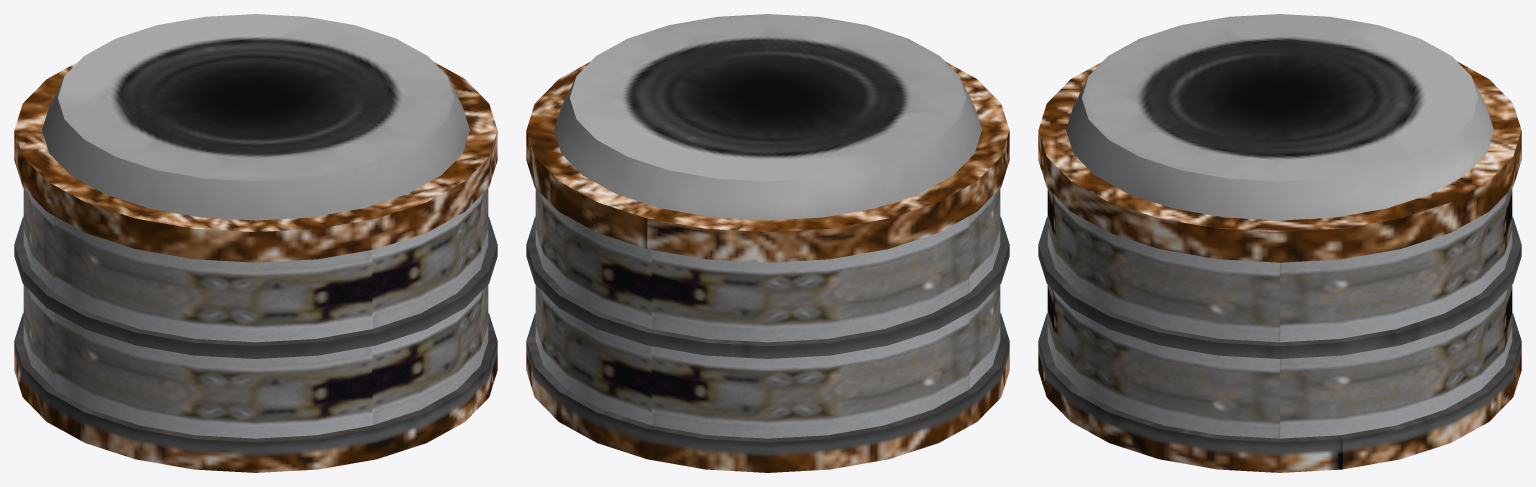
The model's file is core2.DAE.
3 renders of one model, left to right at view 1: azimuth 30°, elevation 25°; view 2: azimuth 150°, elevation 25°; view 3: azimuth 270°, elevation 25°, orthographic.
Visible parts, largest first — view 1: Cylinder01-Pivot; view 2: Cylinder01-Pivot; view 3: Cylinder01-Pivot.
Boxes of the visible parts, x1,y1,x2,y2 form: Cylinder01-Pivot: (14, 14, 497, 472); Cylinder01-Pivot: (526, 14, 1009, 472); Cylinder01-Pivot: (1038, 14, 1521, 472).
Size of what is drawn, in the model's own units: 0.5456 by 0.3807 by 0.5456.
